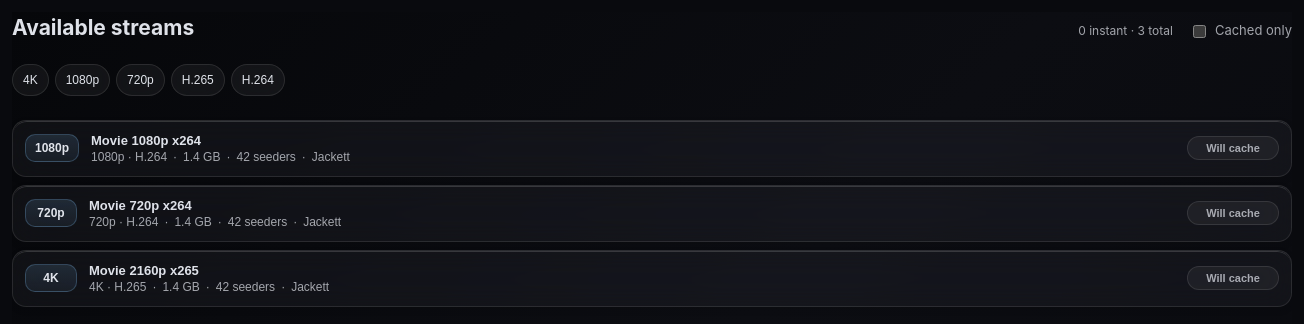
Test: StreamPicker › renders resolution + codec chips only when >1 value is present, and filters by resolution
expect the element named "Filter streams" is shown: met, box [12,64,285,96]
expect the text "Movie 1080p x264" is shown 3 times: met, box [91,132,201,148]; [89,198,192,212]; [89,262,199,278]
Note: Click the 4K chip → only the 2160p row remains, chip is pressed.
Step 1. Click the button "4K" → coordinates (30, 80), box [12,64,49,96]
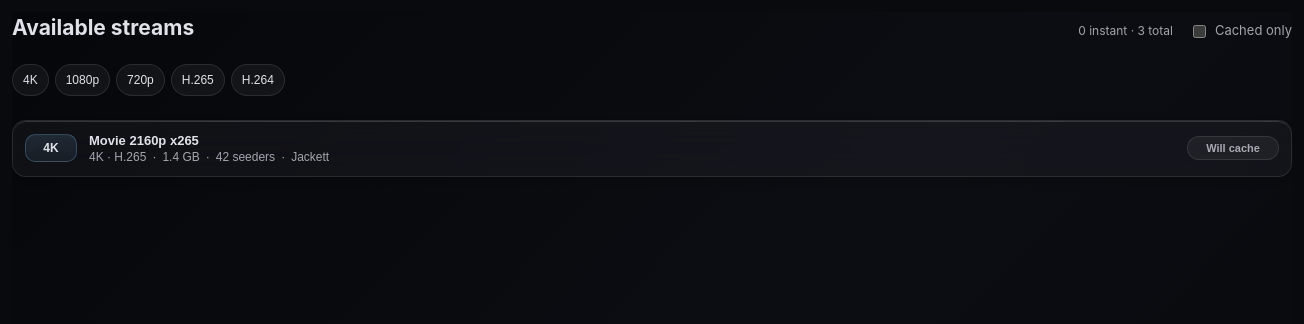
expect the text "Movie 2160p x265" is shown once: met, box [89,132,199,148]
Note: Clicking it again clears the filter (all three return).
Step 2. Click the button "4K" → coordinates (30, 80), box [12,64,49,96]
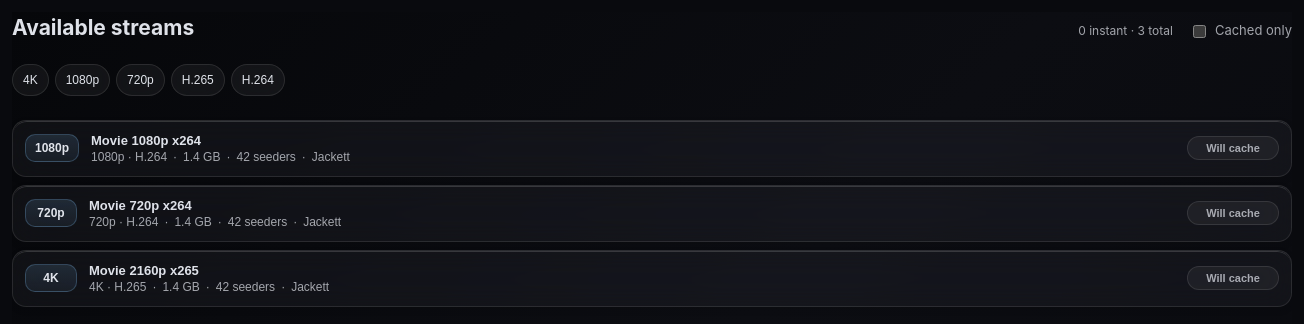
expect the text "Movie 1080p x264" is shown 3 times: met, box [91,132,201,148]; [89,198,192,212]; [89,262,199,278]
